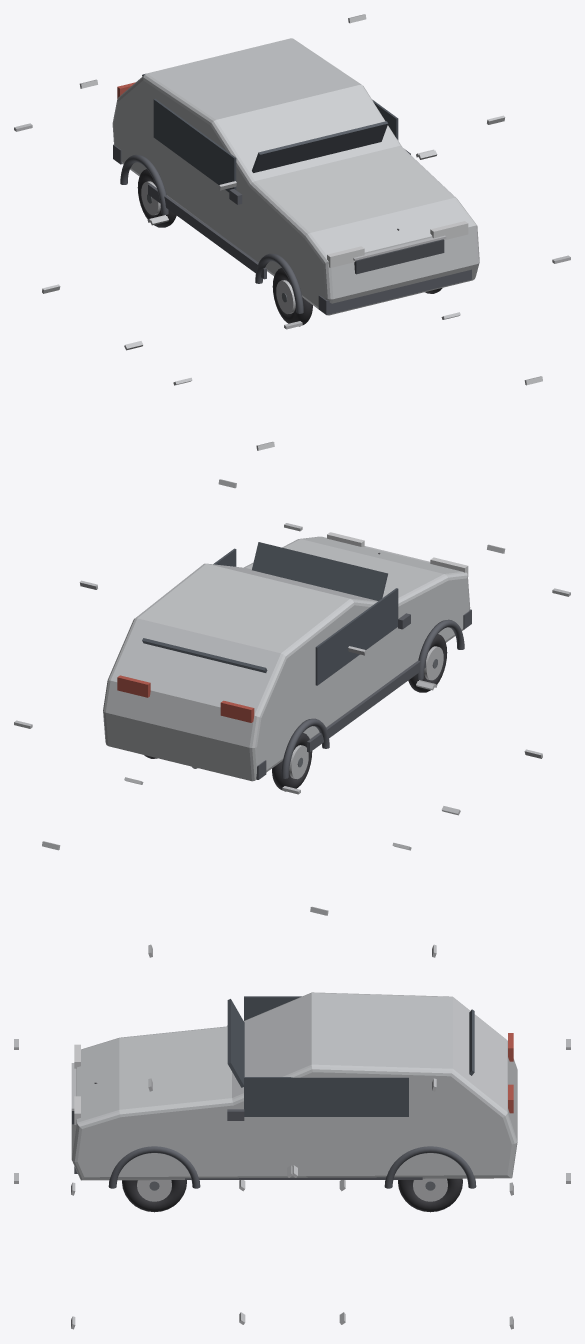
Rendered from peugeot-206-engineering-v1.glb.
The picture shows the model from 3 angles, top to bottom: view 1: azimuth 30°, elevation 25°; view 2: azimuth 150°, elevation 25°; view 3: azimuth 270°, elevation 25°; orthographic projection. The views are drawn at different scales.
Parts seen in each view (by area): view 1: zone_body, zone_wheels; view 2: zone_body, zone_wheels; view 3: zone_body, zone_wheels.
Part boxes in pixels (box(x1,y1,x2,y2)): zone_body: box(112, 38, 479, 315); zone_wheels: box(14, 14, 570, 450); zone_body: box(103, 532, 471, 781); zone_wheels: box(14, 479, 570, 915); zone_body: box(71, 992, 517, 1188); zone_wheels: box(14, 944, 570, 1329).
Size of the model in its own units: 2.97 by 2.37 by 4.92.
